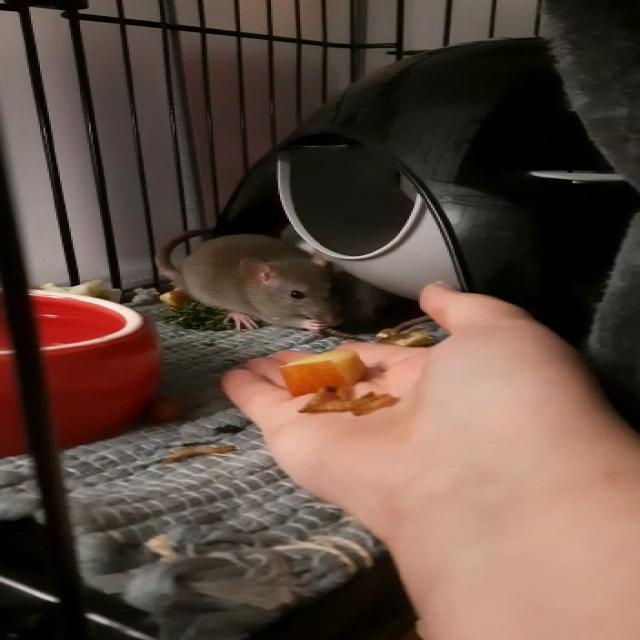rat: (174, 228, 352, 335)
